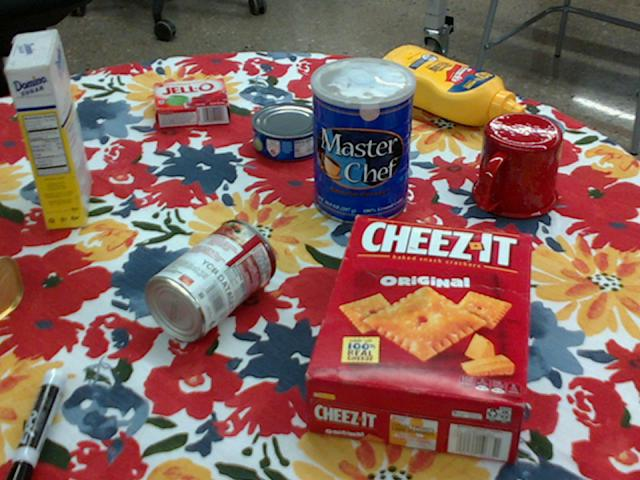cracker_box: (302, 218, 532, 463)
gelatin_box: (152, 80, 227, 130)
large_marker: (1, 367, 66, 479)
master_chef_can: (312, 57, 416, 226)
mug: (470, 114, 562, 220)
mustard_bottle: (372, 45, 523, 126)
potted_meat_can: (0, 255, 22, 318)
sugar_box: (6, 28, 91, 229)
tomato_soup_can: (143, 219, 274, 342)
tuna_fish_can: (250, 103, 324, 161)
